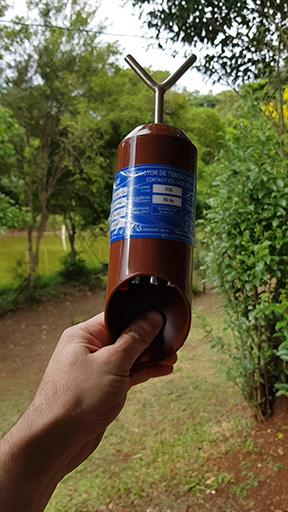Detector_Tensao_Contato: (103, 51, 199, 365)
